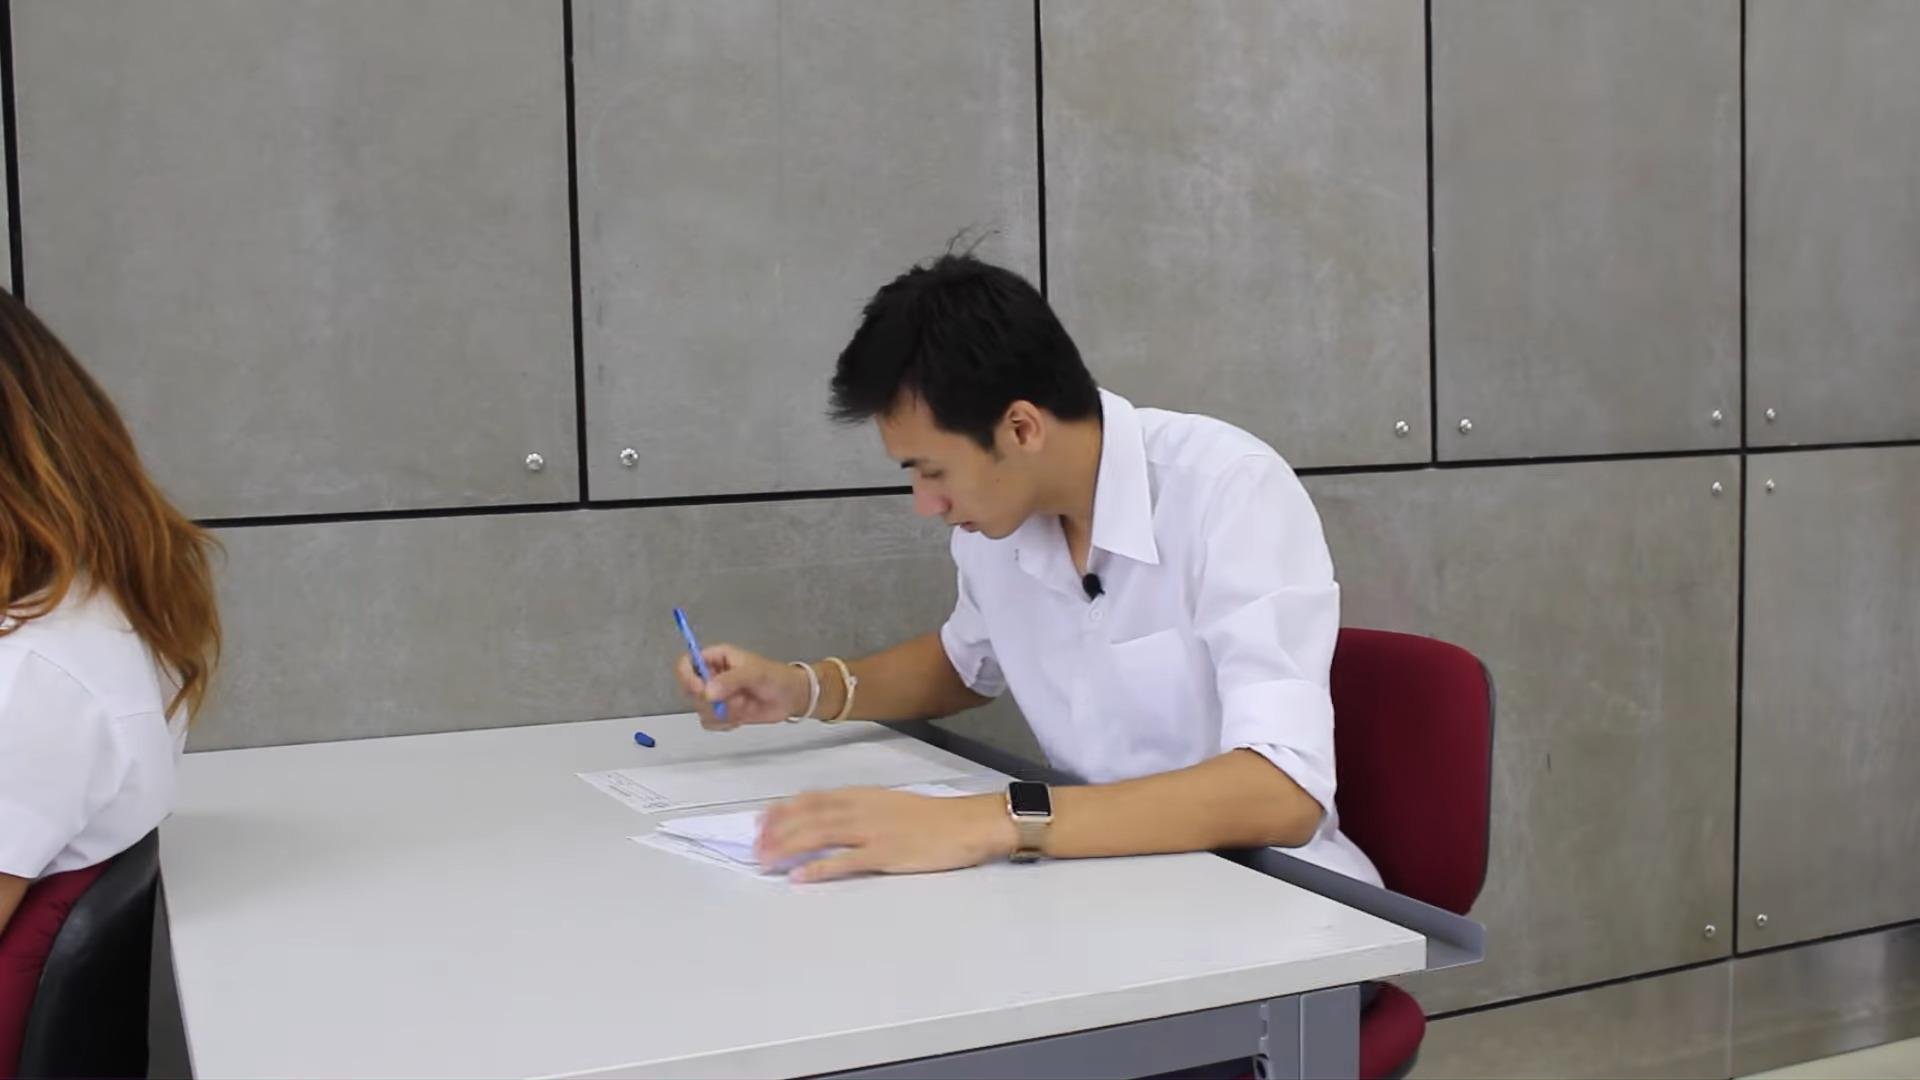good: (558, 220, 1400, 919)
